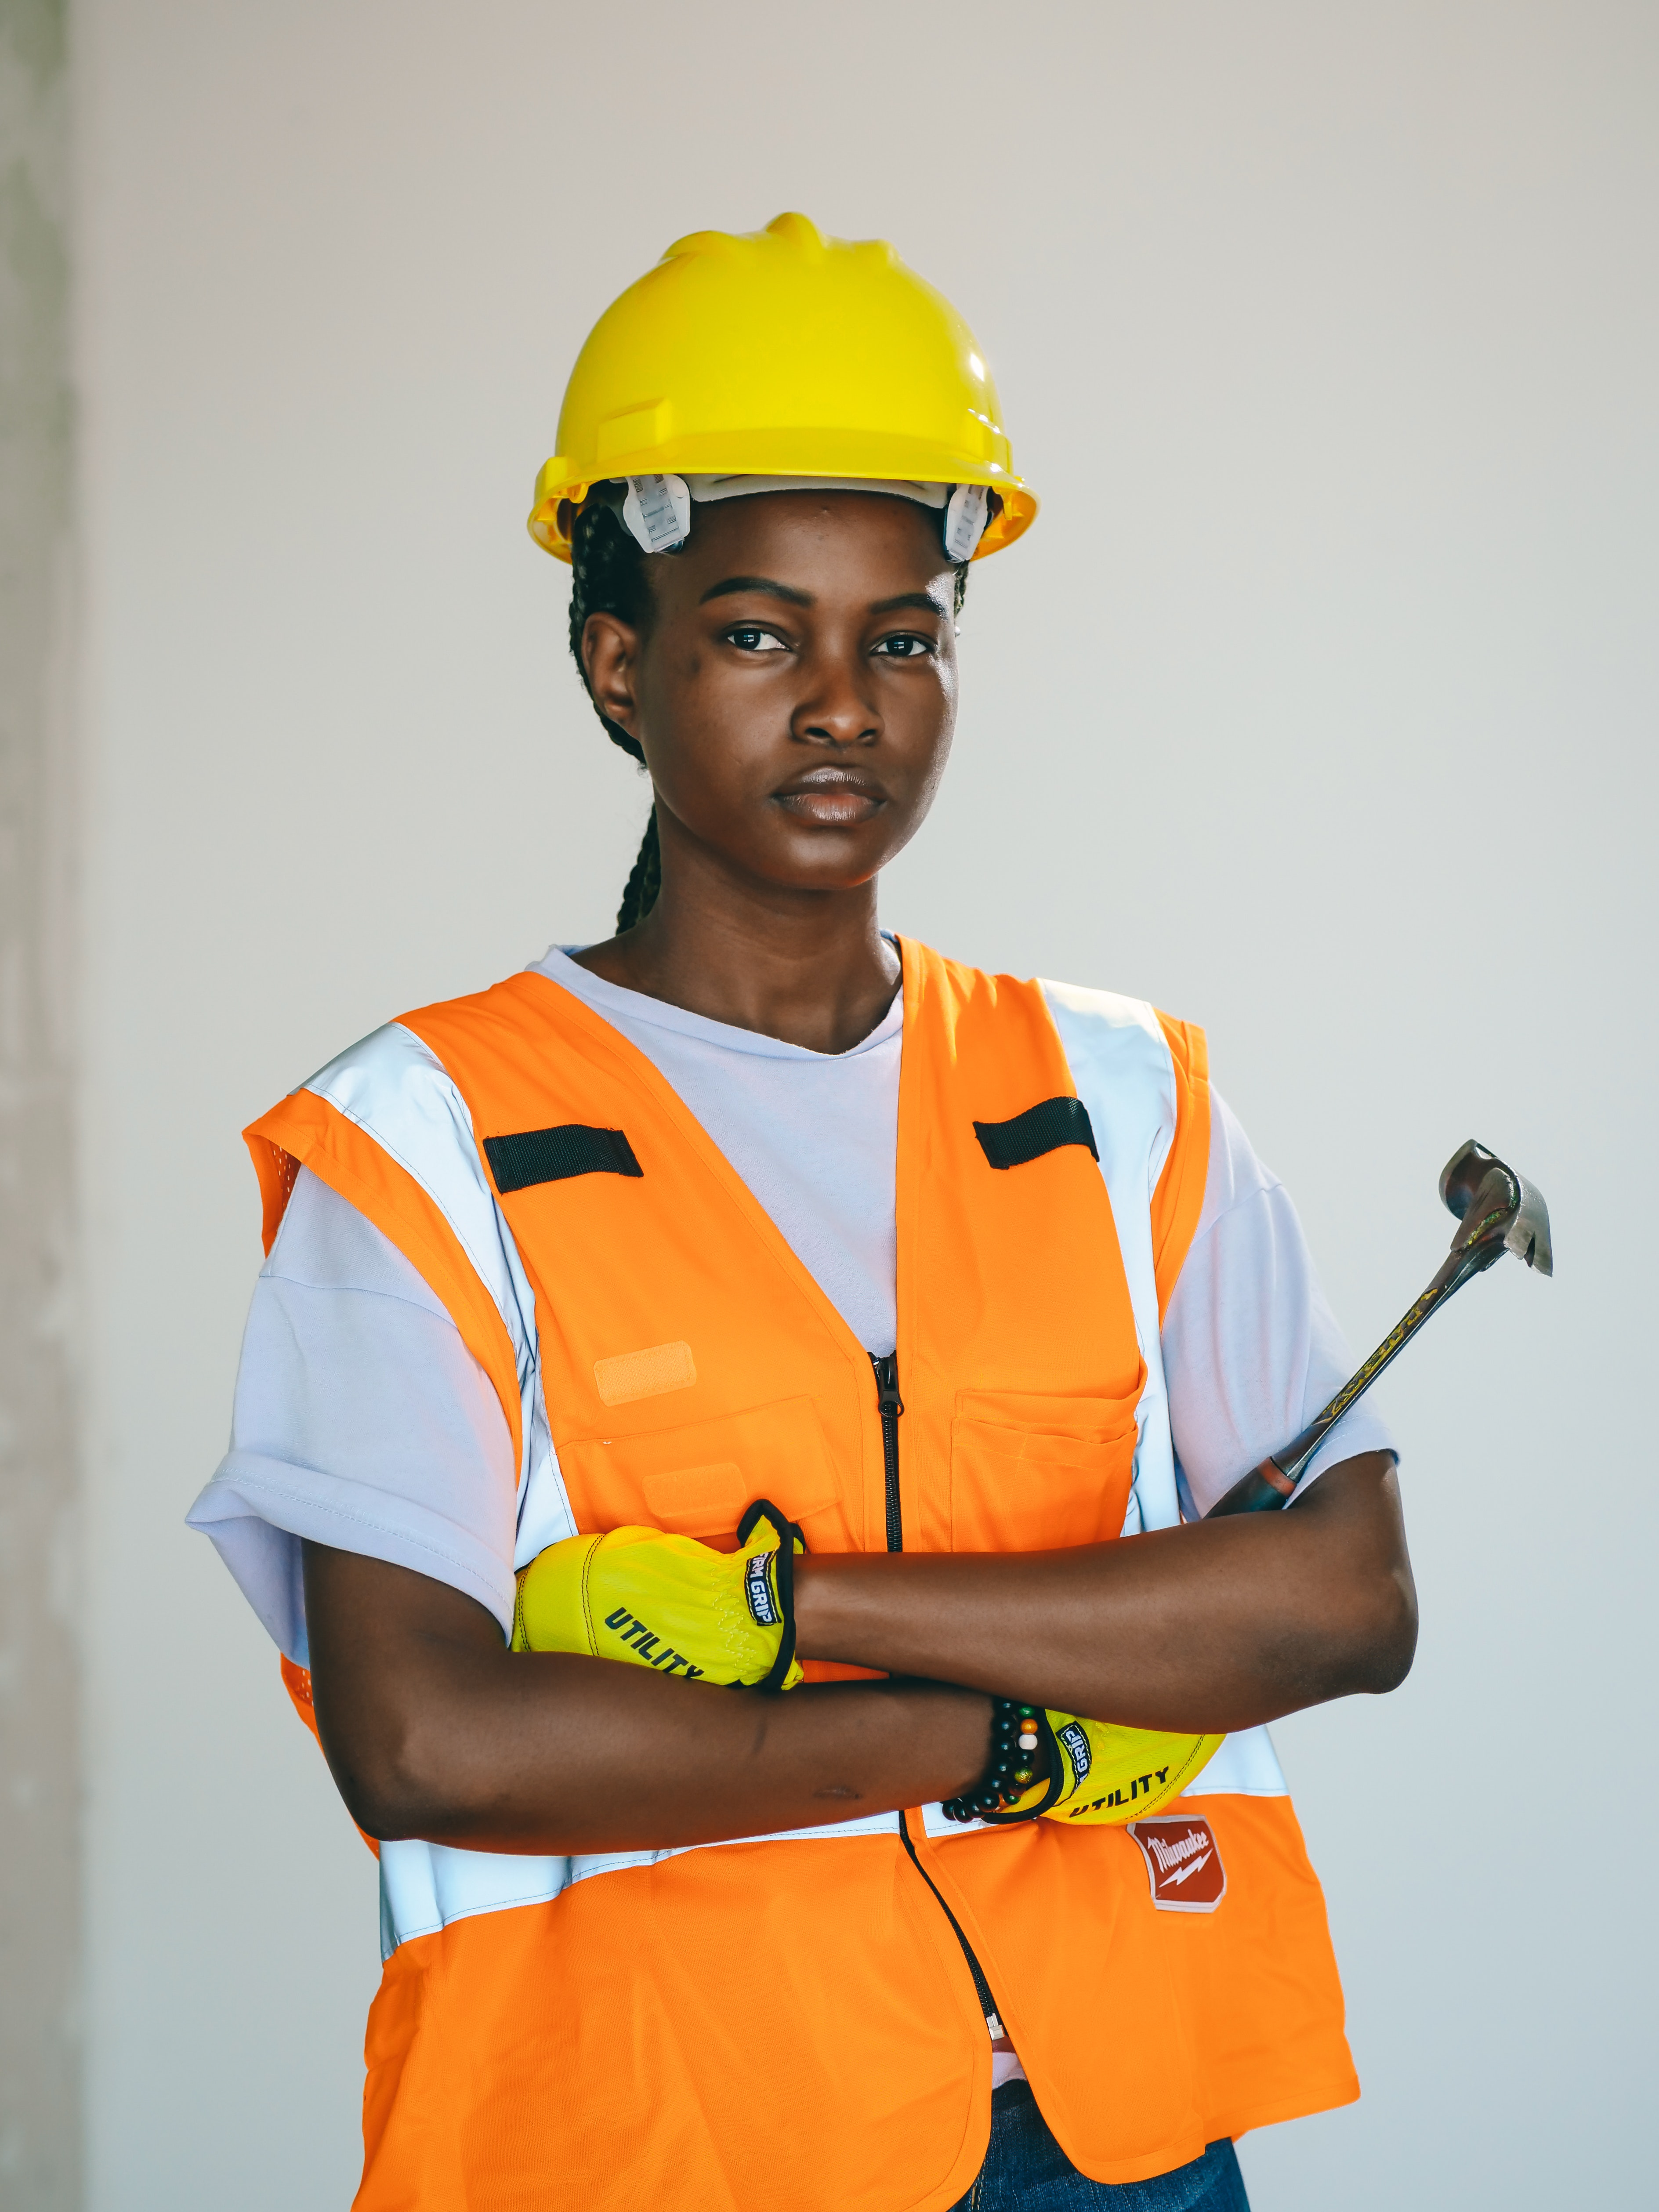Helmet: (488, 185, 1065, 914)
Reflective vest: (242, 925, 1373, 2212)
